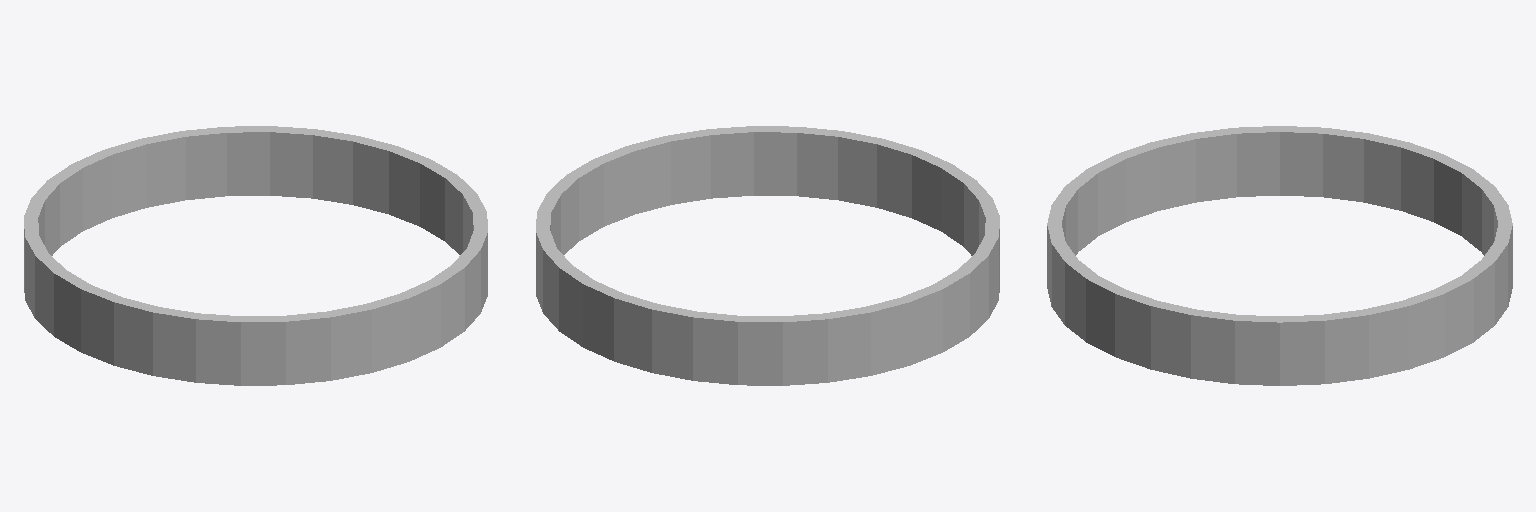
The model's file is clock.obj.
3 views of the same model, side by side, from view 1: azimuth 30°, elevation 25°; view 2: azimuth 150°, elevation 25°; view 3: azimuth 270°, elevation 25° (orthographic).
Parts seen in each view (by area): view 1: Cylinder.013; view 2: Cylinder.013; view 3: Cylinder.013.
Part boxes in pixels (x1,y1,x2,y2): Cylinder.013: (24, 126, 487, 385); Cylinder.013: (536, 126, 999, 385); Cylinder.013: (1047, 126, 1512, 385).
Size of the model in its own units: 2 by 0.3011 by 2.